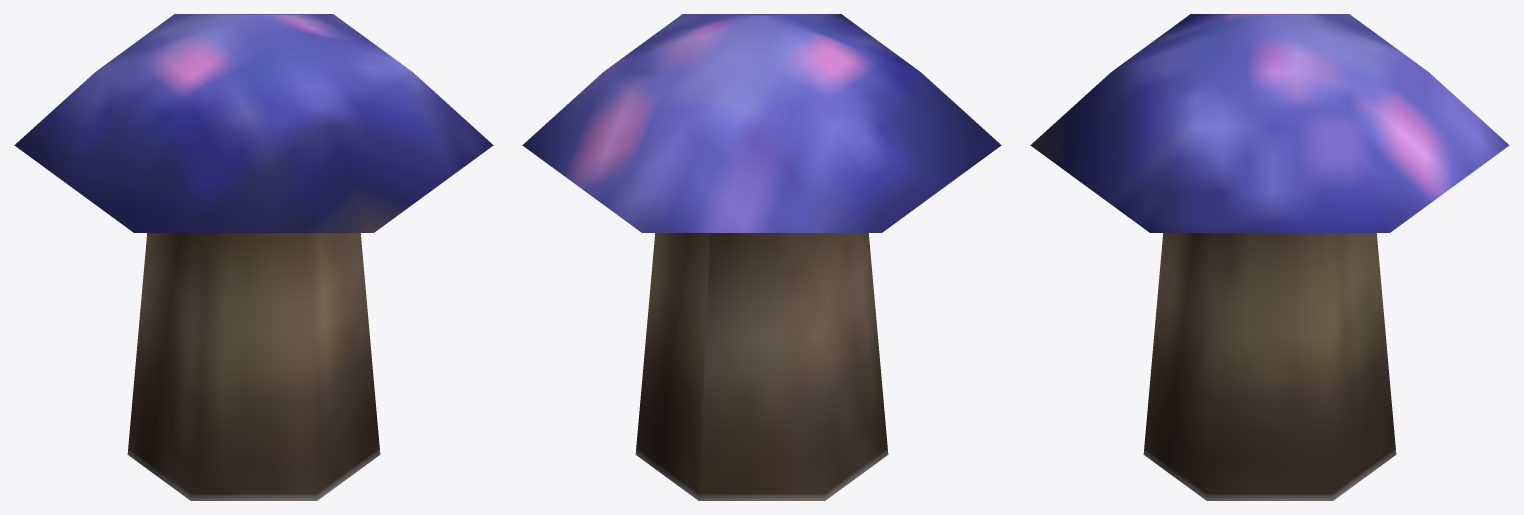
3 views of the same model, side by side, from view 1: azimuth 30°, elevation 25°; view 2: azimuth 150°, elevation 25°; view 3: azimuth 270°, elevation 25° (orthographic).
Visible parts, largest first — view 1: Object09; view 2: Object09; view 3: Object09.
Boxes of the visible parts, x1,y1,x2,y2 form: Object09: (14, 14, 493, 500); Object09: (522, 14, 1001, 500); Object09: (1030, 14, 1509, 500).
Size of the model in its own units: 49.73 by 58.02 by 57.42.
